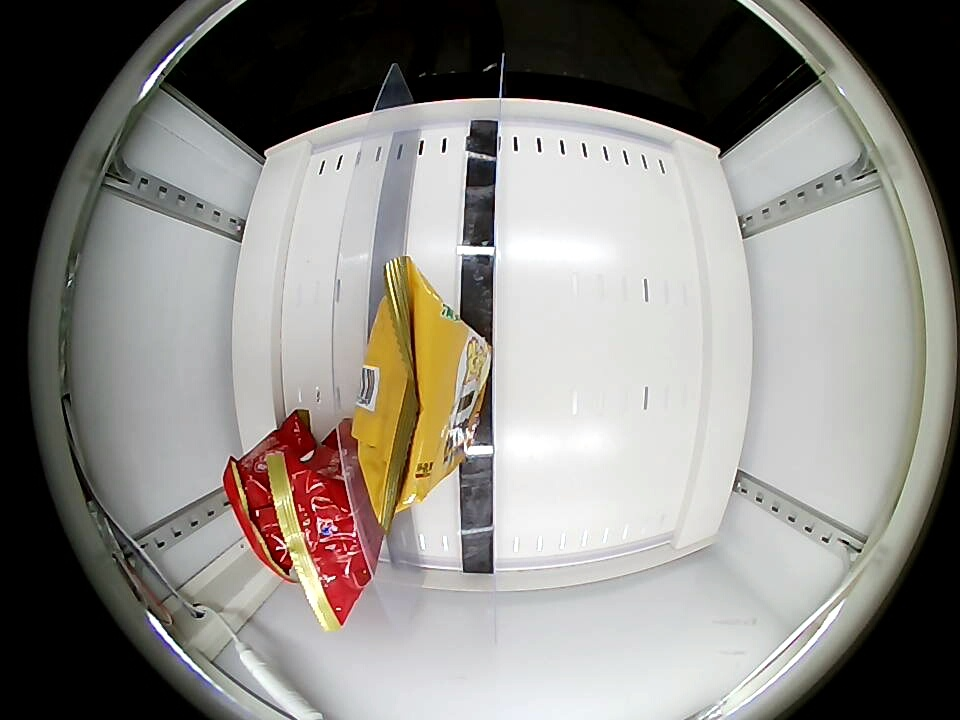kaomo_gali: (358, 272, 491, 507)
kaomo_shaokao: (274, 448, 378, 620), (223, 439, 298, 584)
